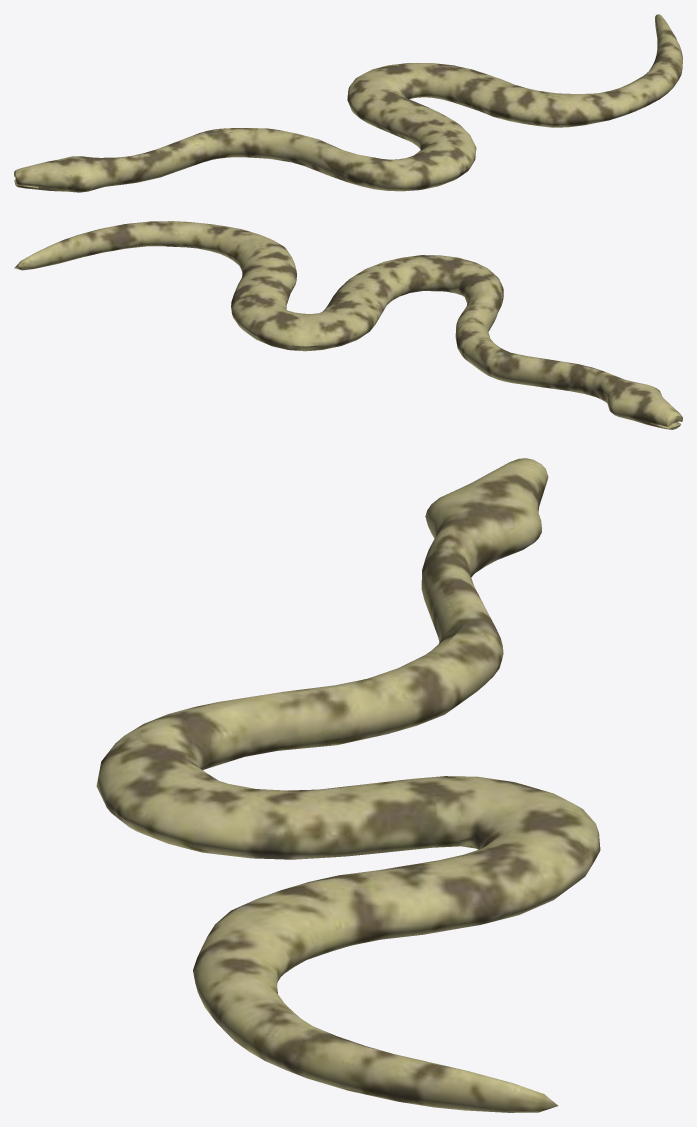
Rendered from snake.glb.
3 views of the same model, one above another, from view 1: azimuth 30°, elevation 25°; view 2: azimuth 150°, elevation 25°; view 3: azimuth 270°, elevation 25° (orthographic). The views are drawn at different scales.
Visible parts, largest first — view 1: snake; view 2: snake; view 3: snake.
Boxes of the visible parts, <box> form: snake: <box>14,14,682,192</box>; snake: <box>14,221,682,429</box>; snake: <box>96,458,600,1112</box>.
Bounding box in the file's own units: 0.16 × 0.00612 × 0.0535.
Materials: 1 (1 with a texture image).
